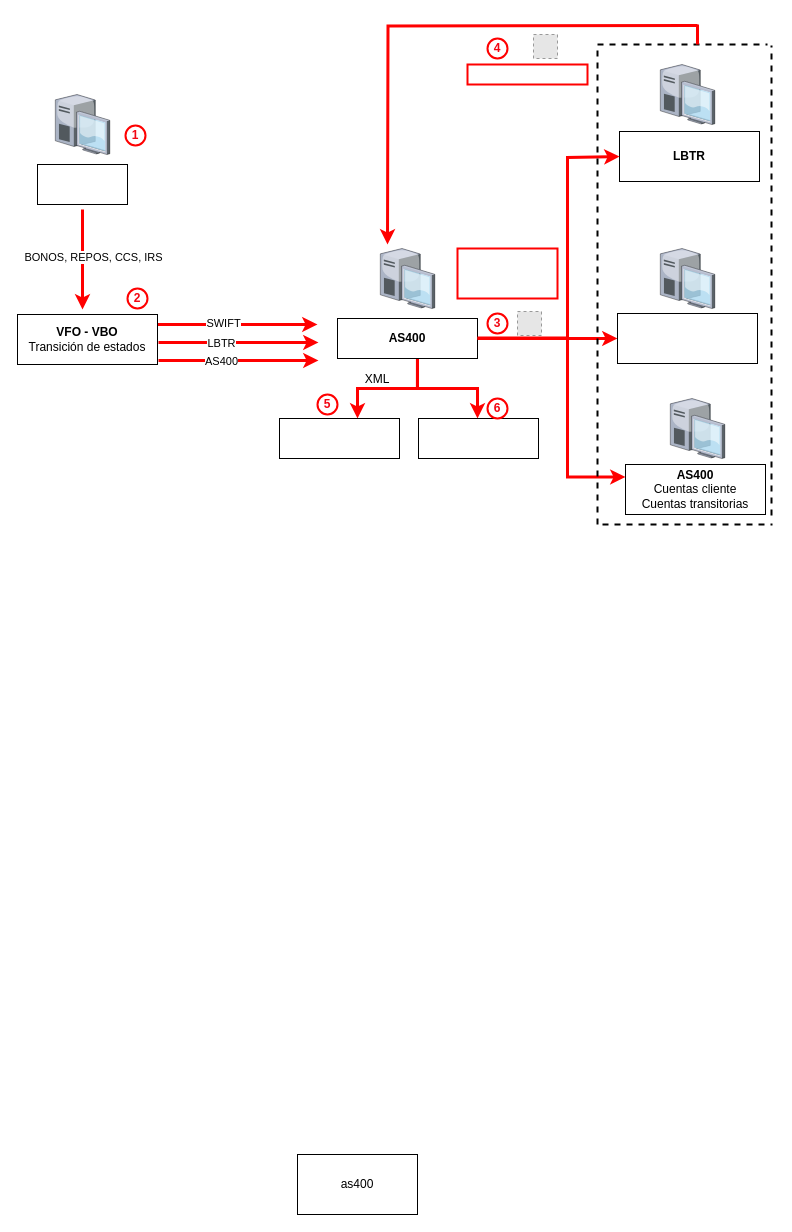
The diagram is 792 pixels wide and 1232 high, and some of its shapes have lost their labels. Grey dashed boxes stand in for pictures. Each missing label, with the box of its shape:
Confirmaciones: (278, 418, 400, 458)
Estado- ACK: (466, 63, 588, 85)
MUREX: (36, 164, 128, 204)
Reporting: (418, 418, 538, 458)
SWIFT ALLIANCE: (616, 312, 758, 364)
Órdenes liquidación (JDBC): (456, 247, 558, 299)
